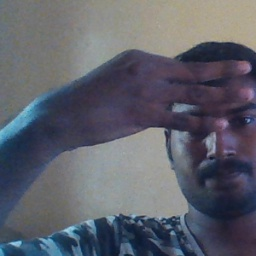K: (71, 47, 255, 139)
